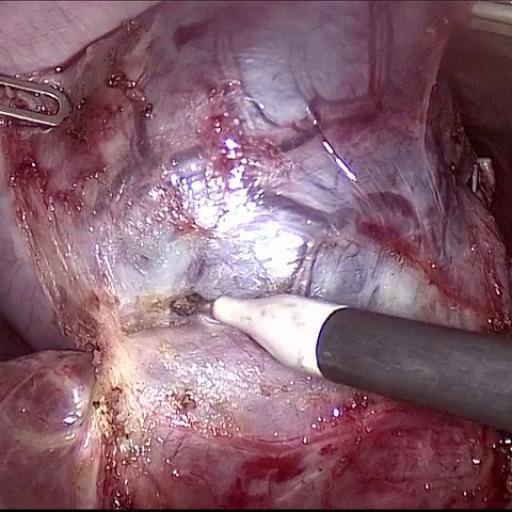Grasper: (0, 68, 100, 141)
Hook: (177, 252, 356, 394)
